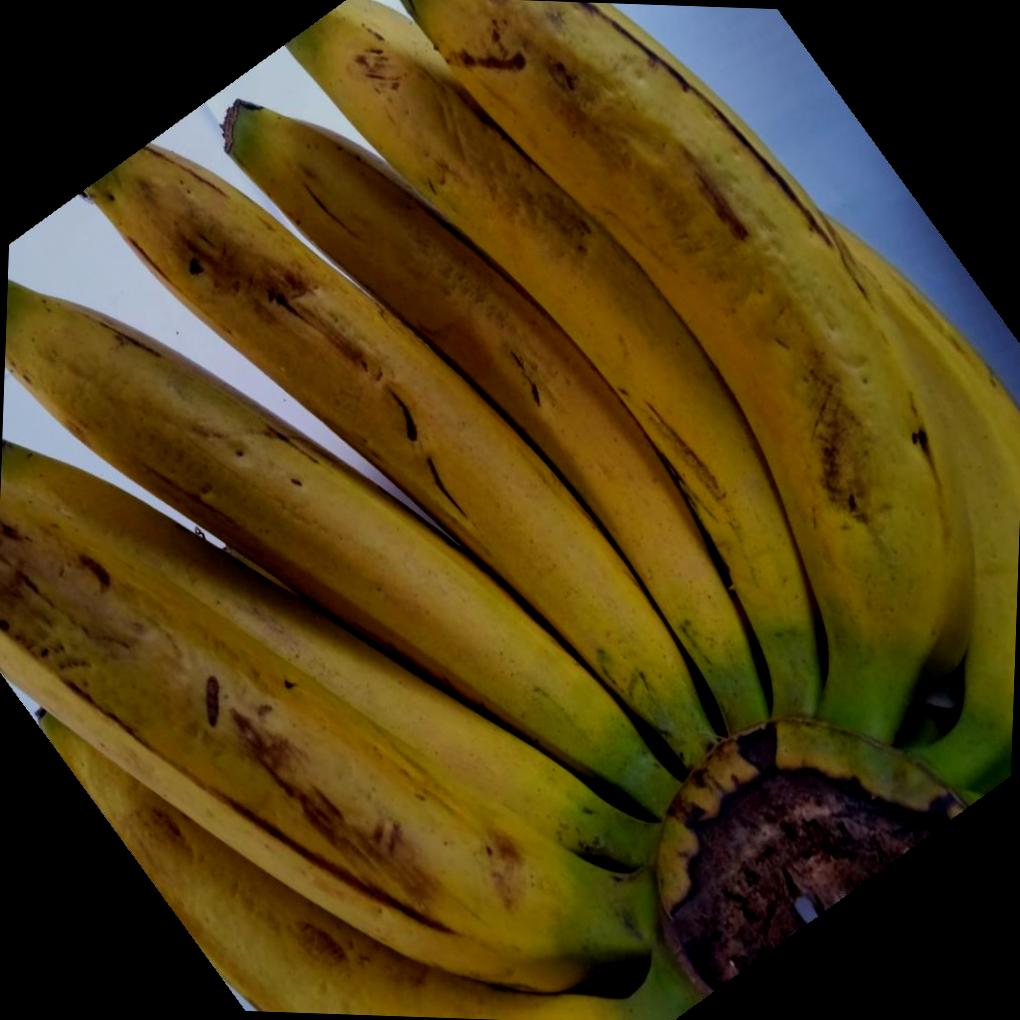Banana Ripe: (0, 92, 856, 1020), (340, 0, 1020, 1001)
